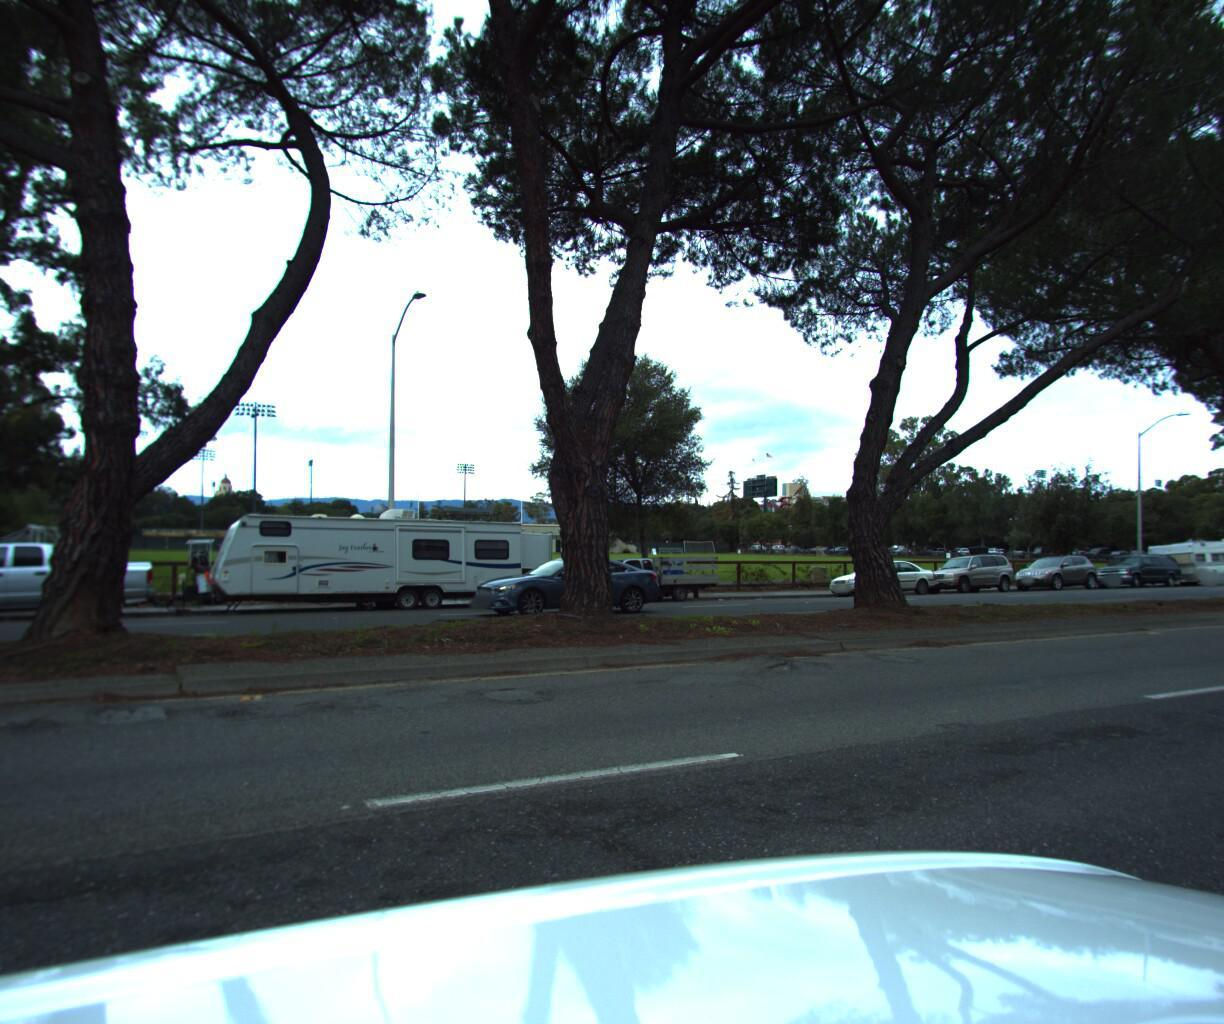car: (0, 538, 160, 637), (460, 553, 666, 619), (554, 549, 725, 607), (909, 539, 1022, 592), (818, 552, 941, 596), (1000, 548, 1102, 589), (1081, 548, 1183, 585)
other_vehicle: (193, 494, 564, 616), (1141, 530, 1224, 582)
